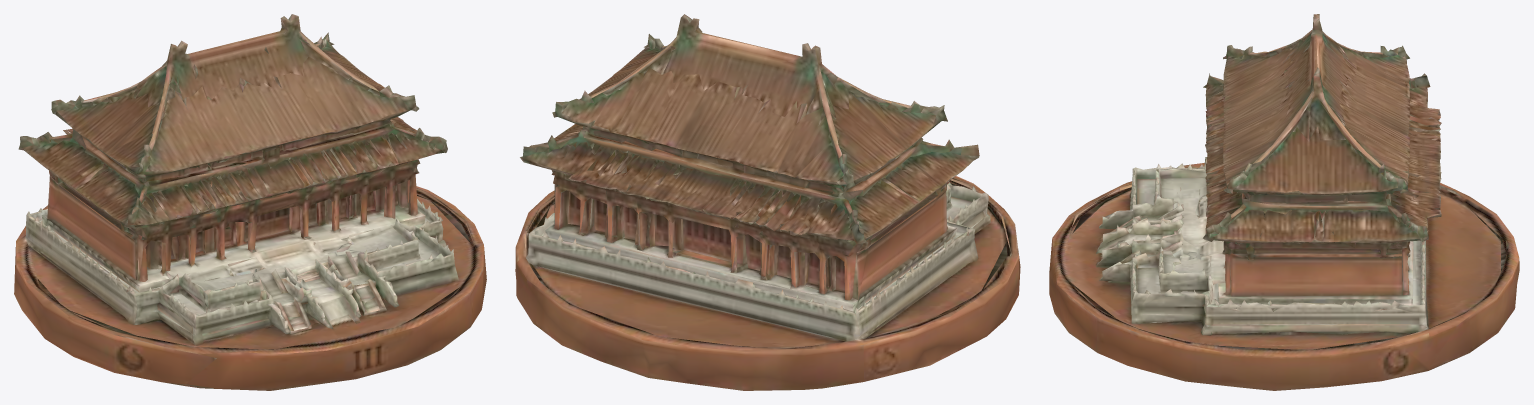
The model's file is forbidden_city.glb.
The picture shows the model from 3 angles, left to right: view 1: azimuth 30°, elevation 25°; view 2: azimuth 150°, elevation 25°; view 3: azimuth 270°, elevation 25°; orthographic projection. The views are drawn at different scales.
Parts seen in each view (by area): view 1: Mesh_0; view 2: Mesh_0; view 3: Mesh_0.
Part boxes in pixels (x1=…): Mesh_0: x1=14, y1=14, x2=486, y2=390; Mesh_0: x1=515, y1=14, x2=1020, y2=390; Mesh_0: x1=1049, y1=14, x2=1519, y2=390.
Bounding box in the file's own units: 1.91 × 1.12 × 1.9.
1 material, 1 textured.
